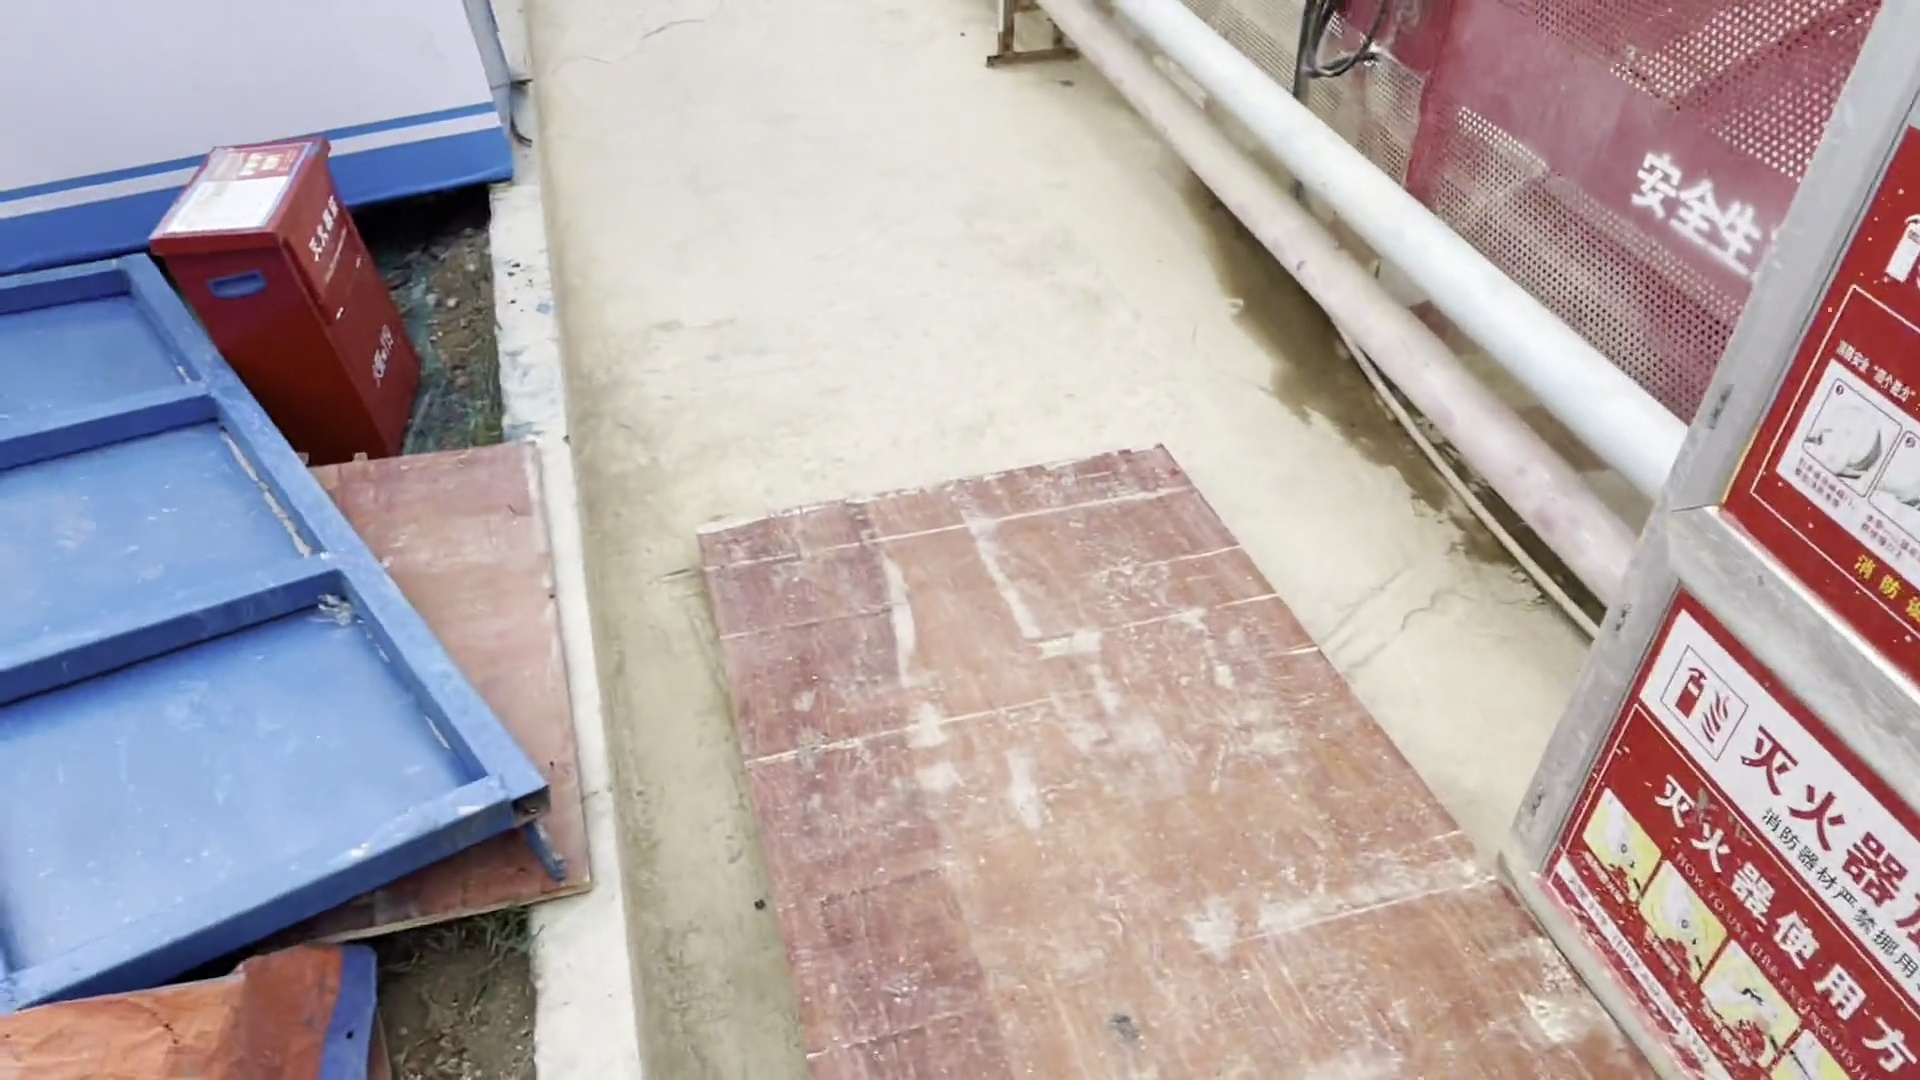board: (688, 426, 1466, 1080)
